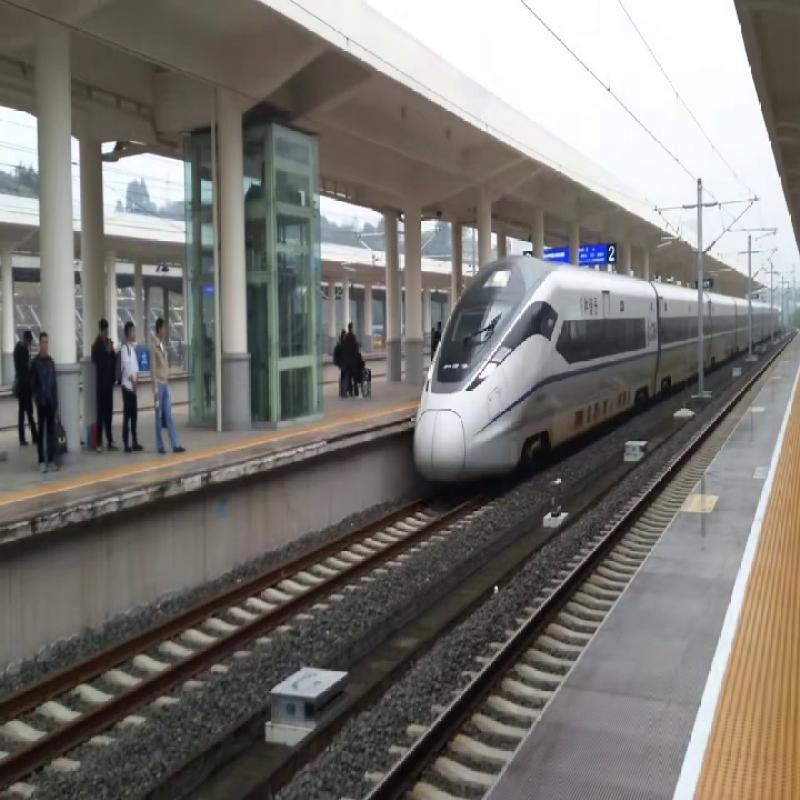train: (420, 261, 666, 469)
